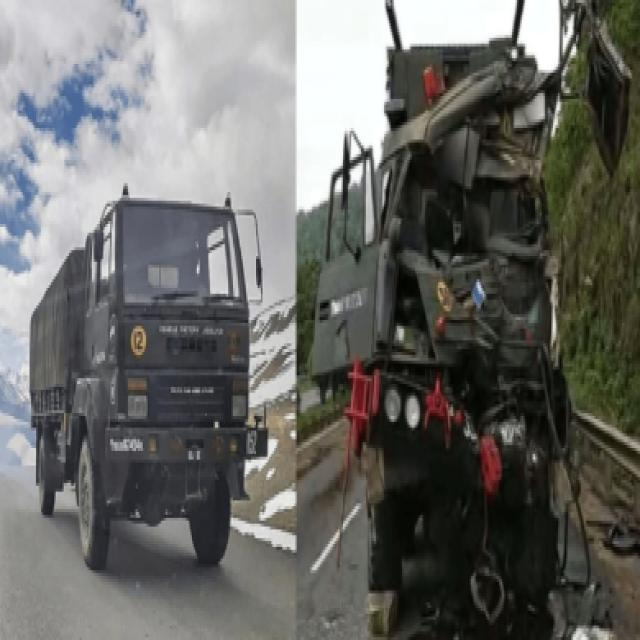accident: (311, 4, 591, 638)
truck: (30, 193, 266, 566)
